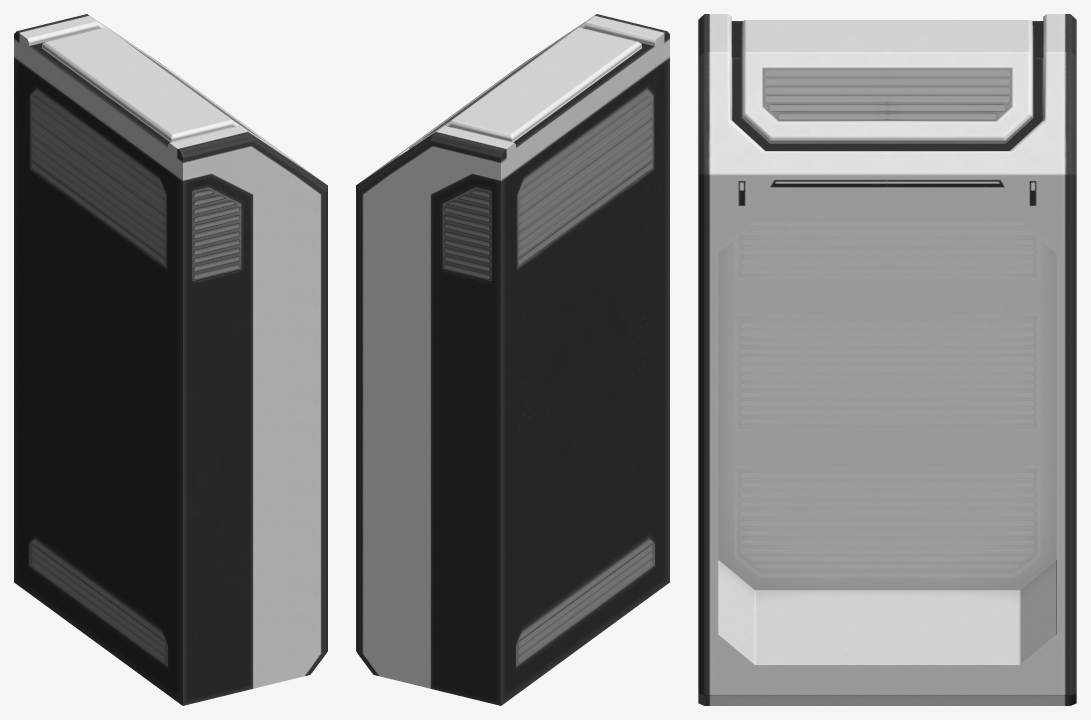
File: SM_LabFridge01_1_Base.FBX
The picture shows the model from 3 angles, left to right: view 1: azimuth 30°, elevation 25°; view 2: azimuth 150°, elevation 25°; view 3: azimuth 270°, elevation 25°; orthographic projection. The views are drawn at different scales.
Parts seen in each view (by area): view 1: SM_LabFridge01_1_Base; view 2: SM_LabFridge01_1_Base; view 3: SM_LabFridge01_1_Base.
Boxes of the visible parts, left/top/right/bottom form: SM_LabFridge01_1_Base: left=14, top=14, right=327, bottom=705; SM_LabFridge01_1_Base: left=356, top=14, right=669, bottom=705; SM_LabFridge01_1_Base: left=698, top=14, right=1076, bottom=705.
Size of what is drawn, in the model's own units: 55.96 by 111 by 200.
